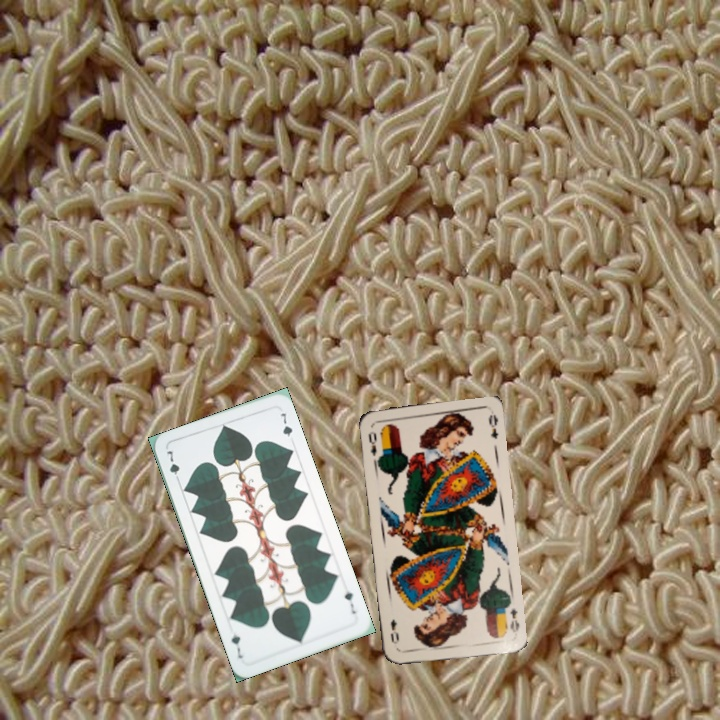EO: (506, 605, 522, 635), (364, 427, 379, 458)
G7: (162, 446, 182, 485), (340, 587, 359, 616)
